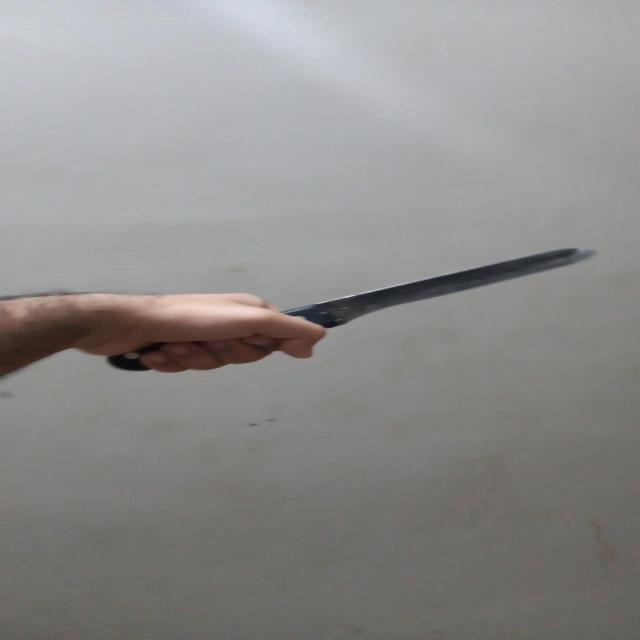Knife: (107, 248, 602, 372)
Person: (0, 294, 328, 382)
